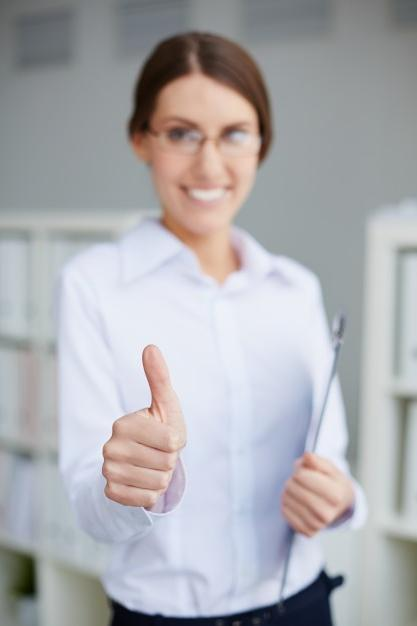thumbsup: (101, 344, 182, 508)
